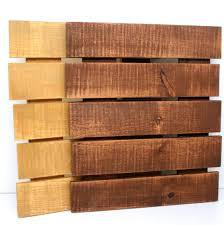wood: (10, 19, 219, 206)
